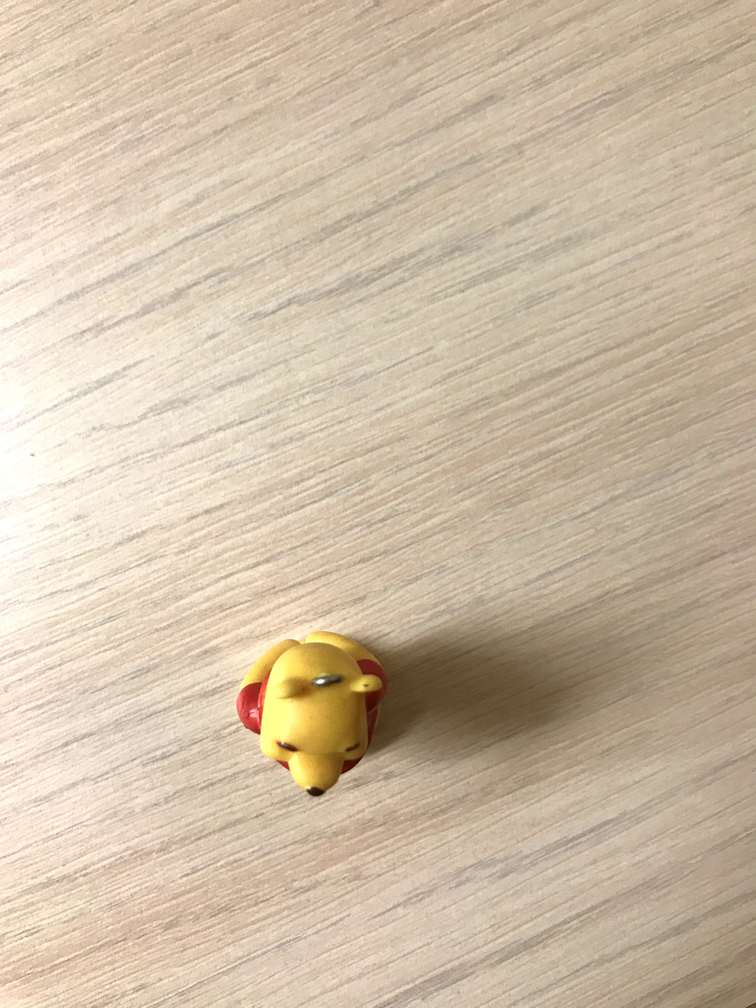Winnie: (245, 636, 392, 796)
